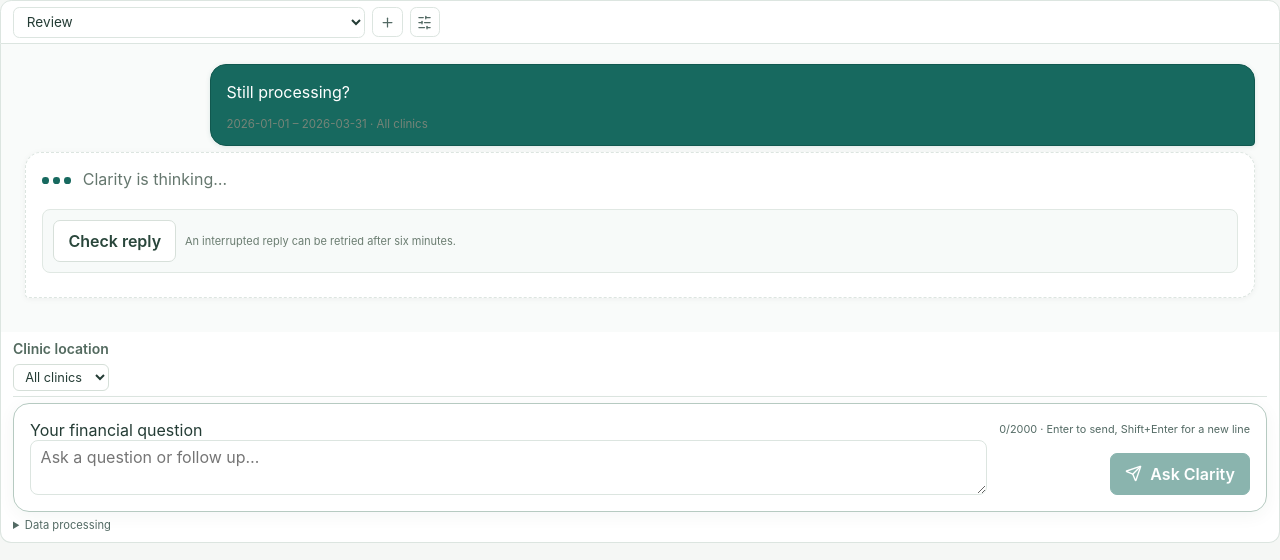
Test: restores a running turn and retries that exact ID when reopened
This screenshot has width=1280, height=560.
expect the element named "Clarity reply pending" is shown: met, box [25,152,1255,298]
What coordinates should you click on to do the following:
click the button "Check reply"
I would click on:
 (115, 241)
Its box is [53,220,176,262].
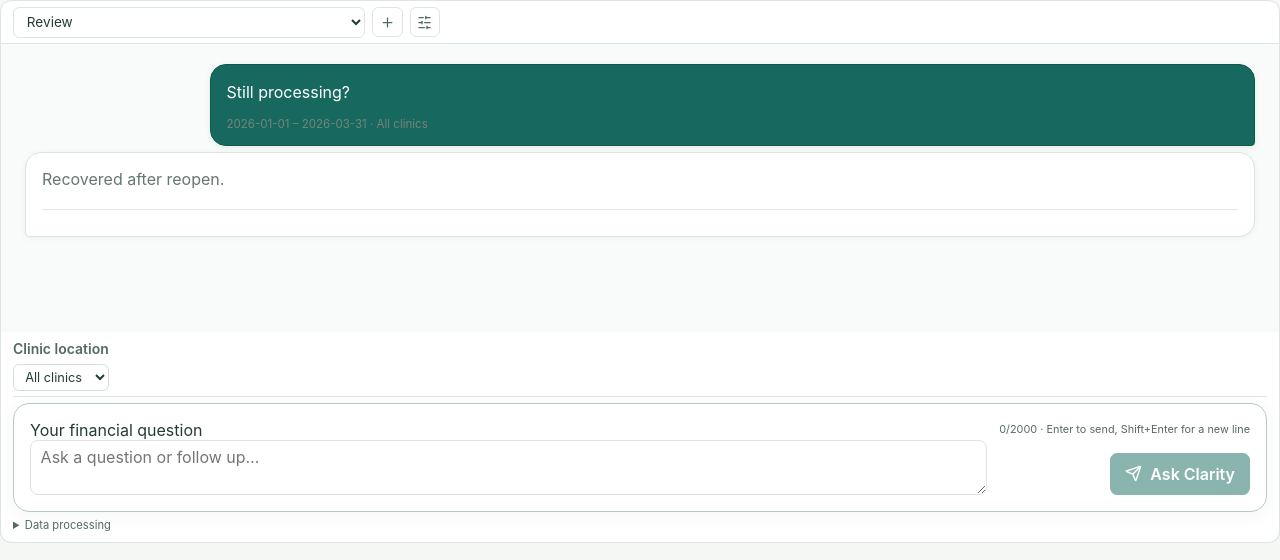
expect the text "Recovered after reopen." is shown: met, box [42,169,224,189]
